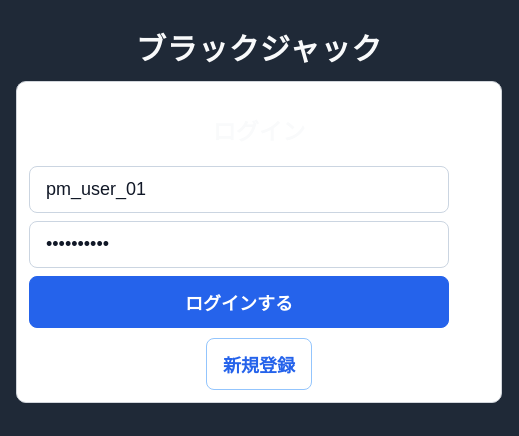
App › shows localized API error on login failure
This screenshot has width=519, height=436.
Click the button "ログインする".
click(239, 302)  # box [29, 276, 449, 328]
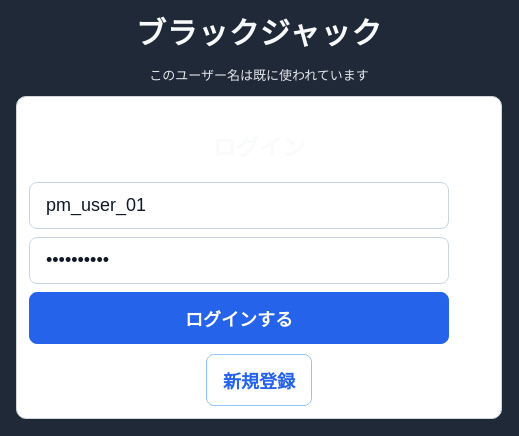
Result: the text "このユーザー名は既に使われています" is shown at [149, 65, 369, 84]
